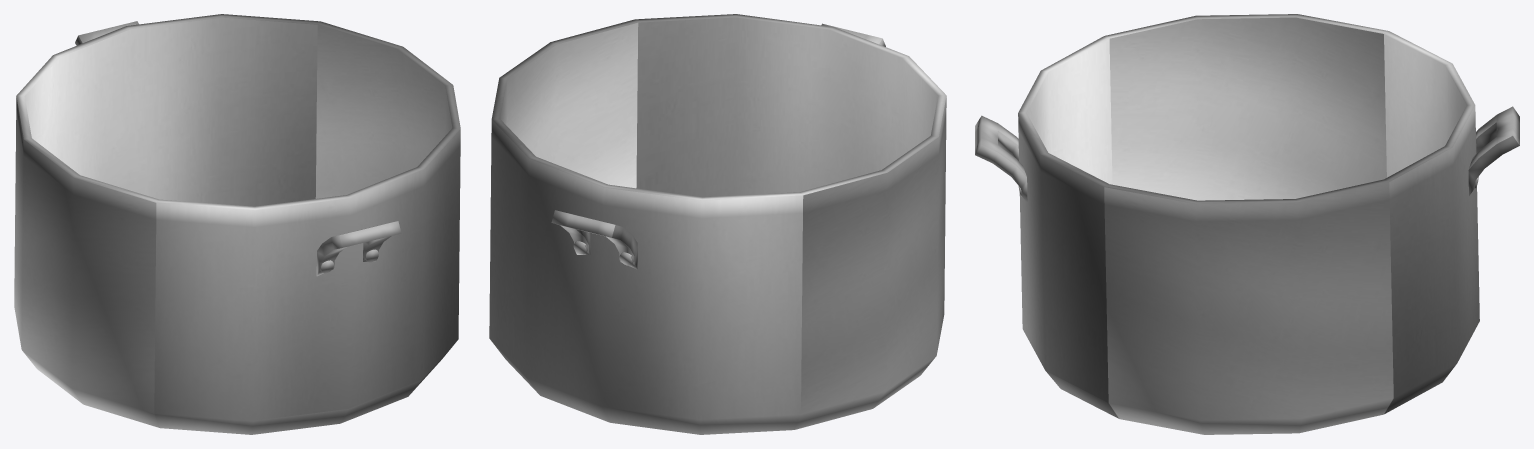
Rendered from BigPot.fbx.
The picture shows the model from 3 angles, left to right: view 1: azimuth 30°, elevation 25°; view 2: azimuth 150°, elevation 25°; view 3: azimuth 270°, elevation 25°; orthographic projection. The views are drawn at different scales.
Parts seen in each view (by area): view 1: pot.004; view 2: pot.004; view 3: pot.004.
Part boxes in pixels (bbox=[...]): pot.004: bbox=[14, 14, 460, 434]; pot.004: bbox=[489, 14, 946, 434]; pot.004: bbox=[975, 14, 1519, 434].
Size of the model in its own units: 889 by 572 by 1086.
